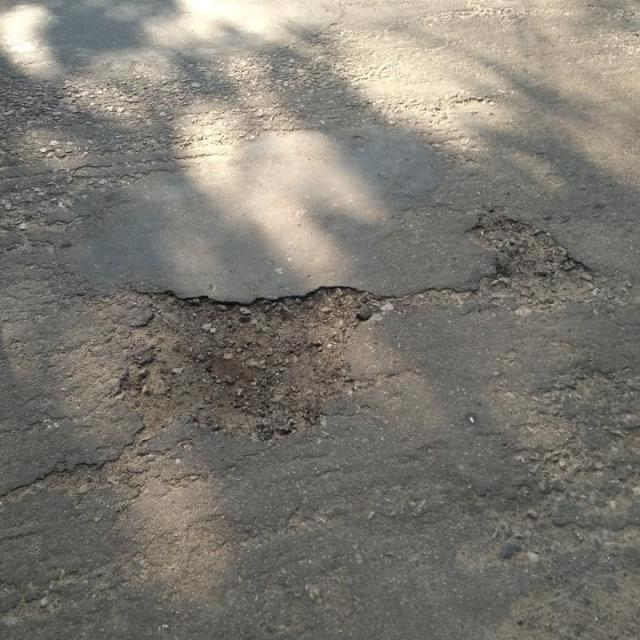Pothole: (110, 278, 370, 451), (464, 213, 600, 319)
